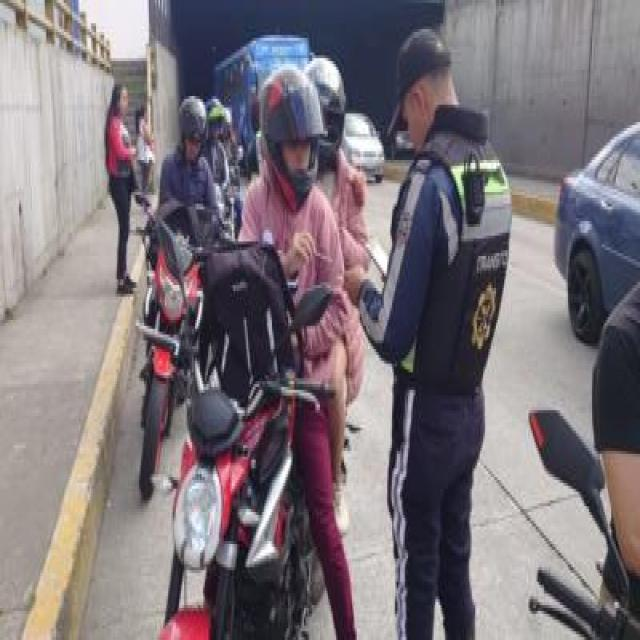MOTORCYCLE: (161, 368, 306, 640)
